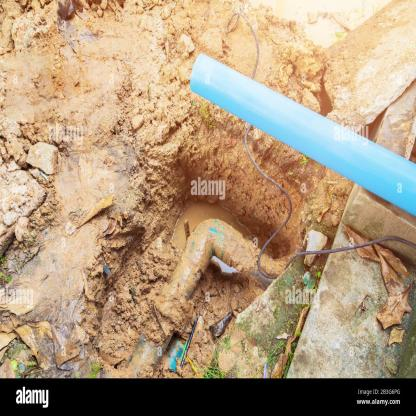PVC: (188, 53, 415, 217)
